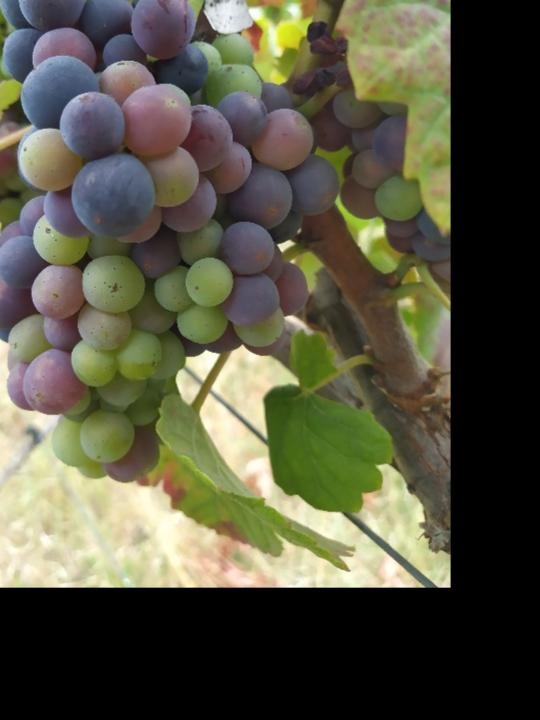grape: (0, 0, 345, 485)
